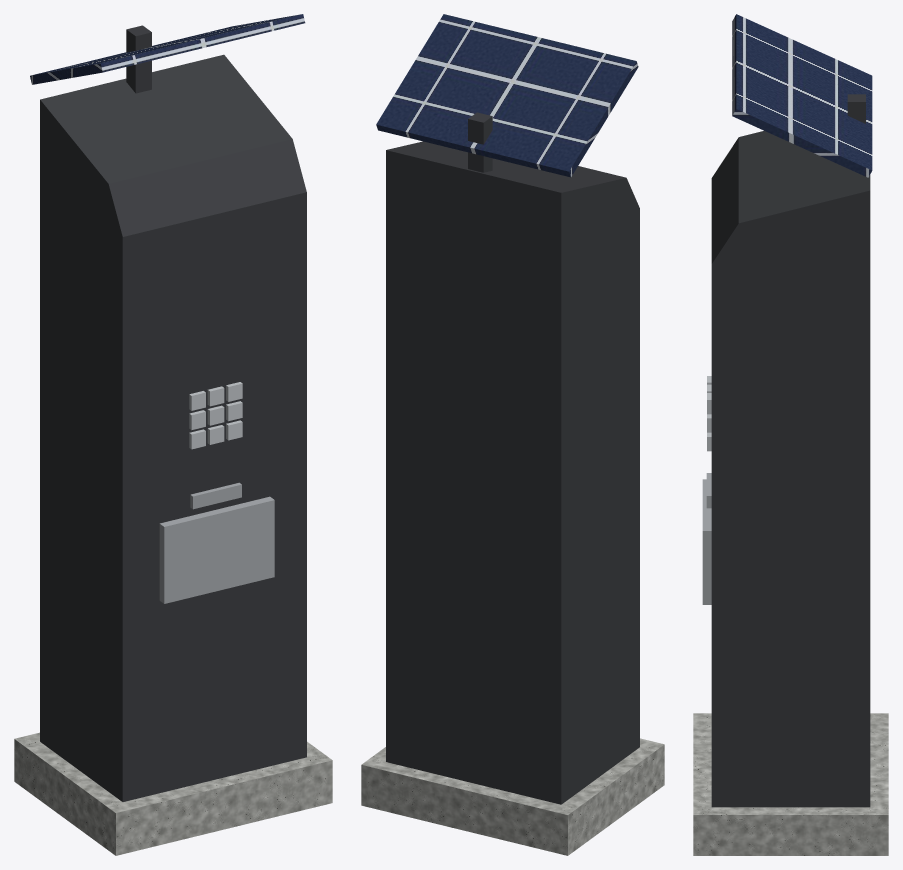
3 renders of one model, left to right at view 1: azimuth 30°, elevation 25°; view 2: azimuth 150°, elevation 25°; view 3: azimuth 270°, elevation 25°, orthographic. The views are drawn at different scales.
Parts seen in each view (by area): view 1: baseOffset=0;depth=0.35;height=1.6;material=steel_dark;power (×5); view 2: baseOffset=0;depth=0.35;height=1.6;material=steel_dark;power (×3); view 3: baseOffset=0;depth=0.35;height=1.6;material=steel_dark;power (×4).
Part boxes in pixels (x1=…): baseOffset=0;depth=0.35;height=1.6;material=steel_dark;power (×5): x1=14, y1=14, x2=332, y2=855; baseOffset=0;depth=0.35;height=1.6;material=steel_dark;power (×3): x1=361, y1=14, x2=664, y2=855; baseOffset=0;depth=0.35;height=1.6;material=steel_dark;power (×4): x1=693, y1=14, x2=888, y2=855.
Bounding box in the file's own units: 0.53 × 0.43 × 1.81.
Materials: 6 (2 with a texture image).
